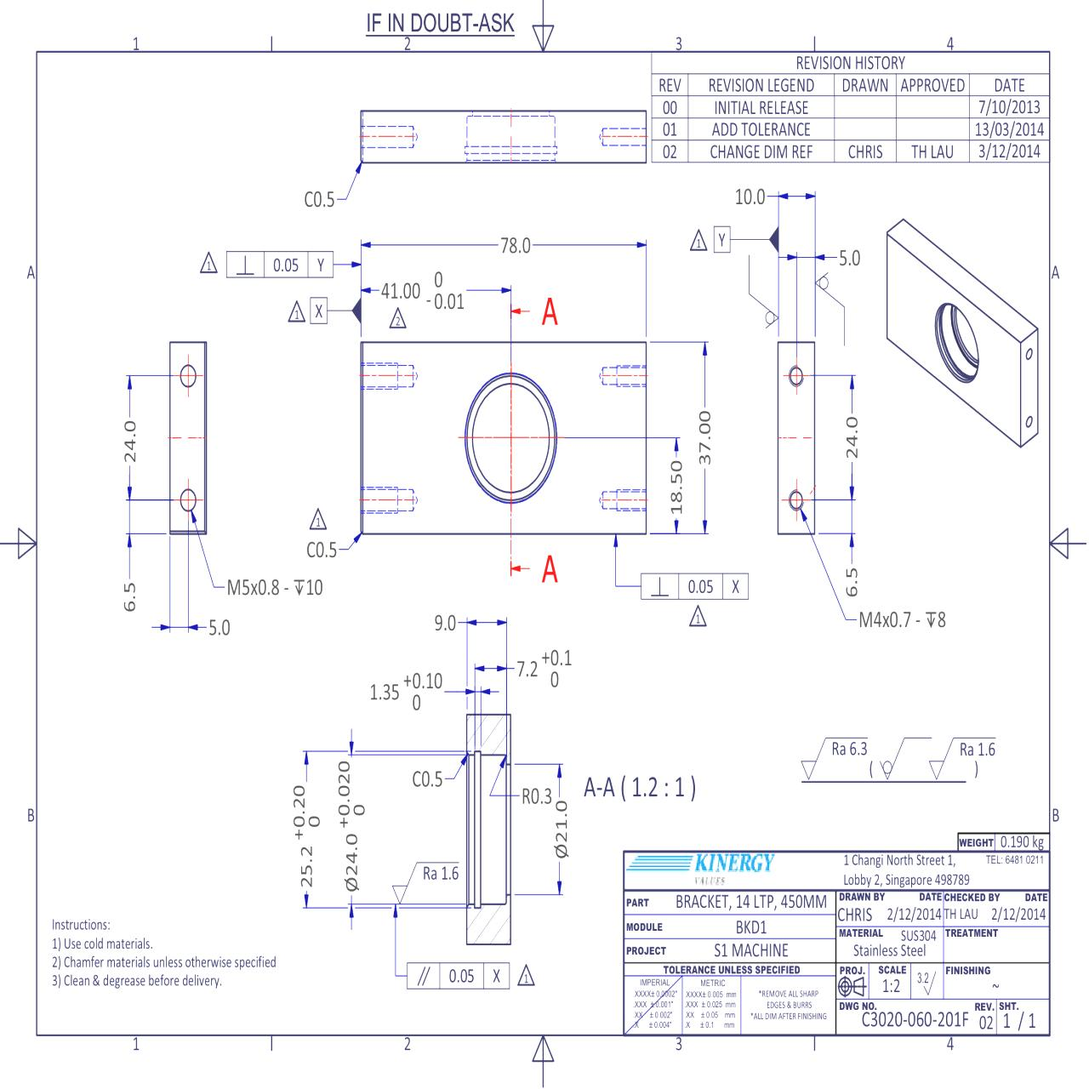basic_dimension: (381, 269, 466, 310), (292, 784, 321, 889), (371, 671, 442, 710), (518, 649, 571, 687), (670, 461, 684, 514), (698, 410, 711, 465), (123, 420, 137, 463), (500, 236, 531, 255), (846, 417, 858, 459), (736, 188, 765, 205), (845, 568, 858, 598), (840, 249, 861, 267), (435, 615, 456, 632), (209, 619, 230, 636), (123, 583, 135, 611)
datum_symbol: (713, 225, 779, 254), (310, 297, 361, 325)
dimension_chamfer_symbol: (303, 188, 334, 210), (306, 542, 336, 559), (413, 770, 442, 787)
dimension_diameter_symbol: (337, 760, 365, 892), (555, 802, 568, 861)
dimension_metric_symbol: (226, 575, 242, 599), (859, 606, 873, 633)
dimension_radius_symbol: (519, 786, 551, 804)
gdt_frame_symbol: (639, 572, 752, 601), (225, 251, 334, 279), (406, 961, 510, 990)
gdt_parallelism_symbol: (417, 966, 431, 986)
gdt_perpendicularity_symbol: (236, 255, 254, 275), (651, 577, 669, 596)
revision_triangle_symbol: (199, 250, 219, 274), (689, 228, 709, 251), (688, 604, 708, 627), (308, 508, 328, 530), (287, 299, 306, 322), (388, 306, 407, 329), (517, 964, 536, 986)
surface_finish_symbol: (928, 737, 996, 781), (392, 861, 459, 905), (801, 737, 868, 781), (879, 737, 932, 781), (748, 255, 779, 329), (814, 272, 845, 346)
